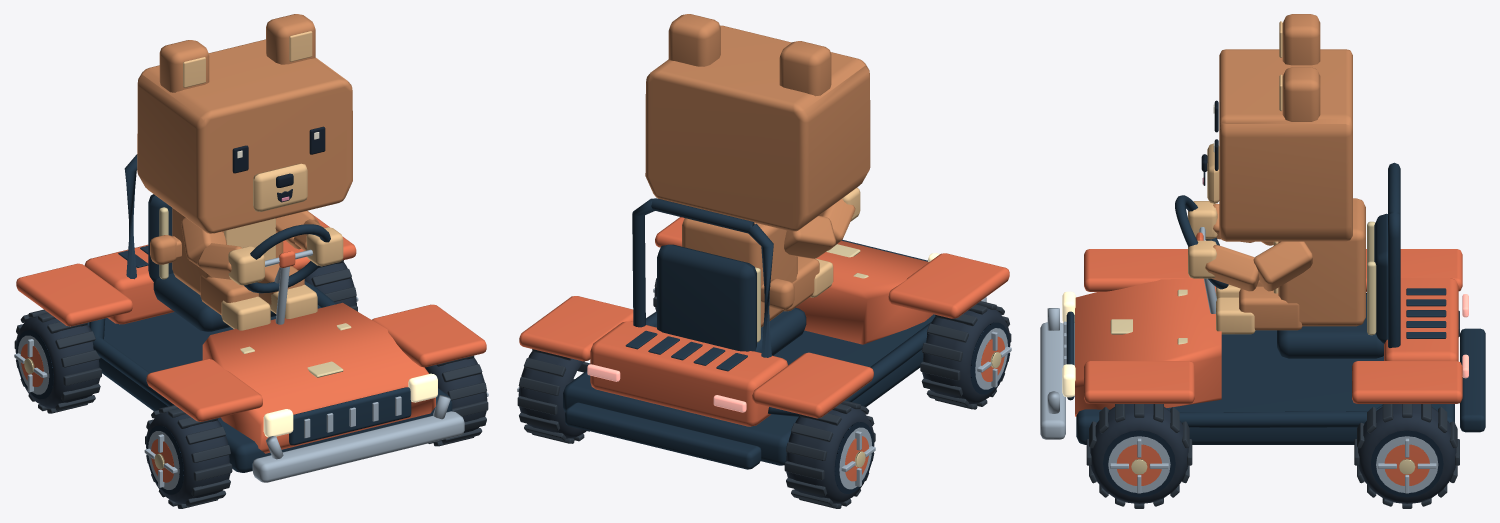
File: kart_bimo.glb
The picture shows the model from 3 angles, left to right: view 1: azimuth 30°, elevation 25°; view 2: azimuth 150°, elevation 25°; view 3: azimuth 270°, elevation 25°; orthographic projection. The views are drawn at different scales.
Visible parts, largest first — view 1: chassis, driver_pose, wheel_fl_spin, wheel_rl_spin, wheel_fr_spin, ear_l, ear_r, steering, wheel_rr_spin, eyes, tail; view 2: chassis, driver_pose, wheel_rl_spin, wheel_fl_spin, wheel_rr_spin, ear_l, ear_r, tail; view 3: chassis, driver_pose, wheel_fr_spin, wheel_rr_spin, ear_r, ear_l, steering.
Boxes of the visible parts, left/top/right/bottom form: chassis: left=16, top=154, right=486, bottom=482; driver_pose: left=137, top=39, right=352, bottom=330; wheel_fl_spin: left=144, top=405, right=232, bottom=508; wheel_rl_spin: left=14, top=309, right=101, bottom=413; wheel_fr_spin: left=425, top=355, right=488, bottom=446; ear_l: left=159, top=40, right=209, bottom=92; ear_r: left=266, top=14, right=315, bottom=64; steering: left=244, top=224, right=330, bottom=293; wheel_rr_spin: left=304, top=260, right=358, bottom=311; eyes: left=232, top=126, right=325, bottom=173; tail: left=150, top=235, right=181, bottom=264; chassis: left=519, top=198, right=1009, bottom=469; driver_pose: left=645, top=25, right=870, bottom=327; wheel_rl_spin: left=784, top=400, right=875, bottom=508; wheel_fl_spin: left=920, top=301, right=1011, bottom=409; wheel_rr_spin: left=517, top=349, right=590, bottom=443; ear_l: left=779, top=41, right=831, bottom=96; ear_r: left=668, top=14, right=720, bottom=66; tail: left=761, top=278, right=794, bottom=309; chassis: left=1040, top=162, right=1485, bottom=444; driver_pose: left=1188, top=49, right=1365, bottom=334; wheel_fr_spin: left=1086, top=404, right=1192, bottom=508; wheel_rr_spin: left=1354, top=404, right=1459, bottom=508; ear_r: left=1279, top=67, right=1320, bottom=121; ear_l: left=1279, top=14, right=1320, bottom=65; steering: left=1175, top=195, right=1228, bottom=289.
Size of what is drawn, in the model's own units: 1.46 by 1.67 by 1.73.
